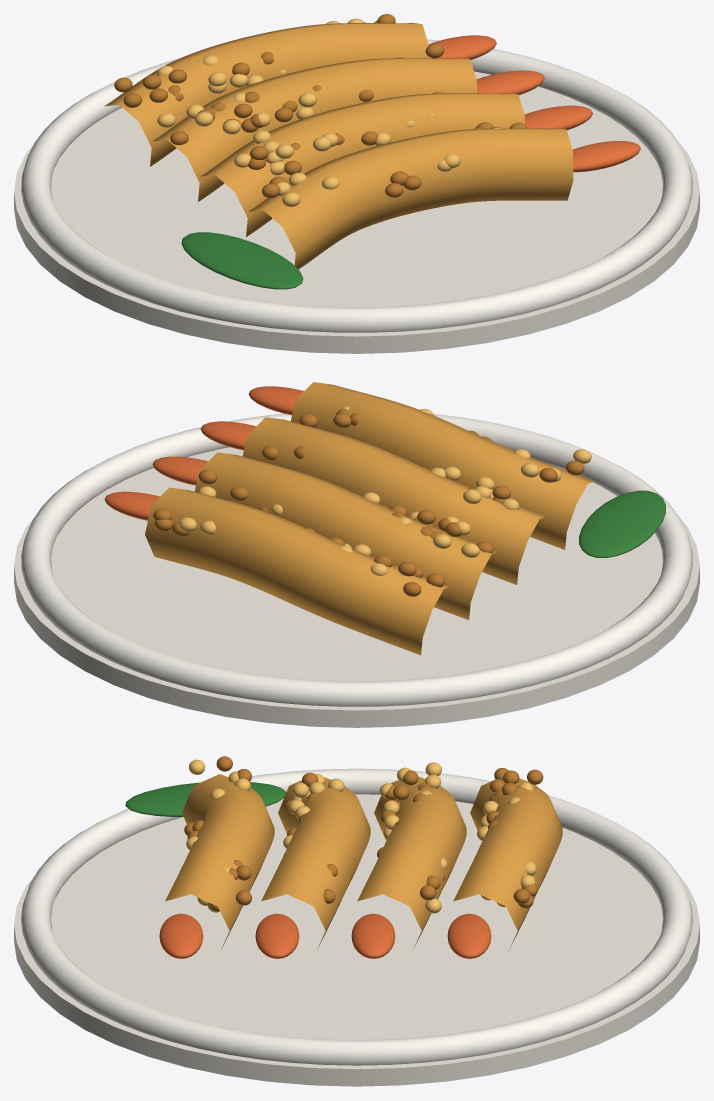
The model's file is tempura.glb.
The picture shows the model from 3 angles, top to bottom: view 1: azimuth 30°, elevation 25°; view 2: azimuth 150°, elevation 25°; view 3: azimuth 270°, elevation 25°; orthographic projection.
Parts seen in each view (by area): view 1: Stylized demo tempura; view 2: Stylized demo tempura; view 3: Stylized demo tempura.
Part boxes in pixels (<box>): Stylized demo tempura: <box>14,14,699,353</box>; Stylized demo tempura: <box>14,382,699,727</box>; Stylized demo tempura: <box>14,756,699,1086</box>.
Size of the model in its own units: 2.5 by 0.48 by 2.5.
